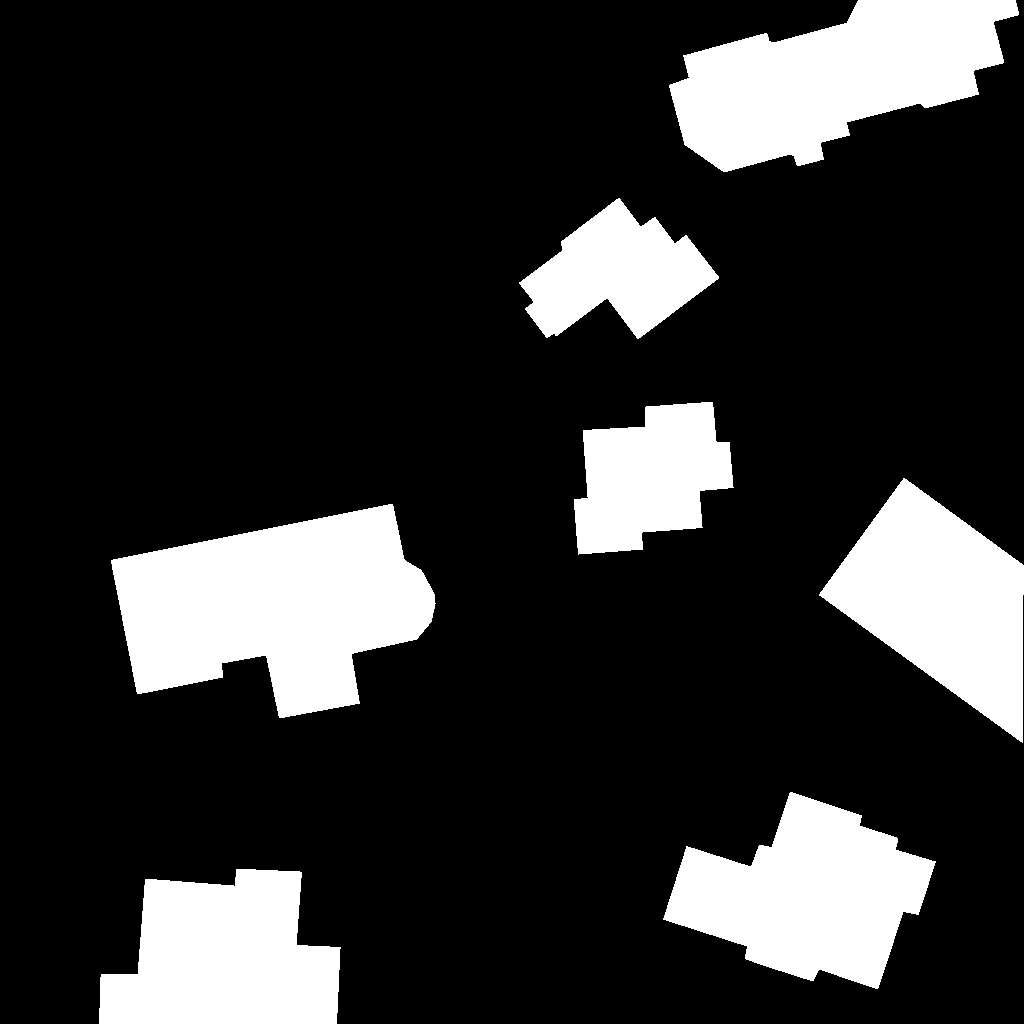building: (111, 504, 436, 719), (669, 0, 1020, 173), (819, 478, 1024, 744), (663, 792, 937, 990), (99, 869, 341, 1024), (519, 198, 720, 340), (574, 402, 734, 555)
